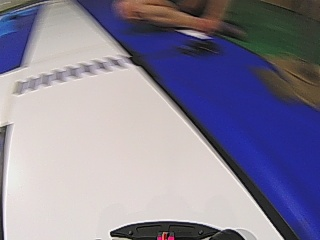CrossWalk: (23, 56, 128, 89)
